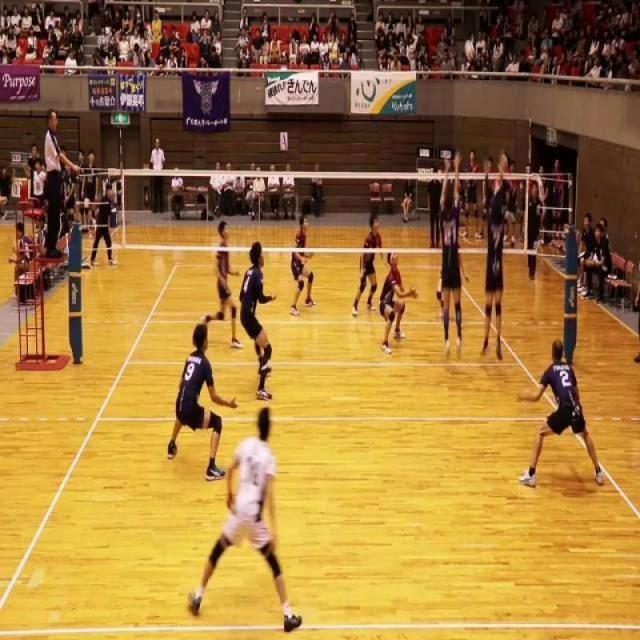volleyball: (464, 40, 476, 62)
